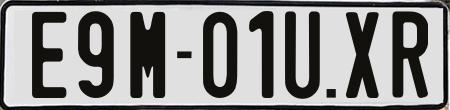0: (202, 12, 241, 99)
1: (249, 11, 276, 104)
9: (76, 10, 117, 99)
E: (32, 12, 66, 102)
M: (128, 9, 166, 101)
R: (390, 11, 431, 103)
U: (284, 10, 319, 102)
X: (345, 9, 383, 98)
